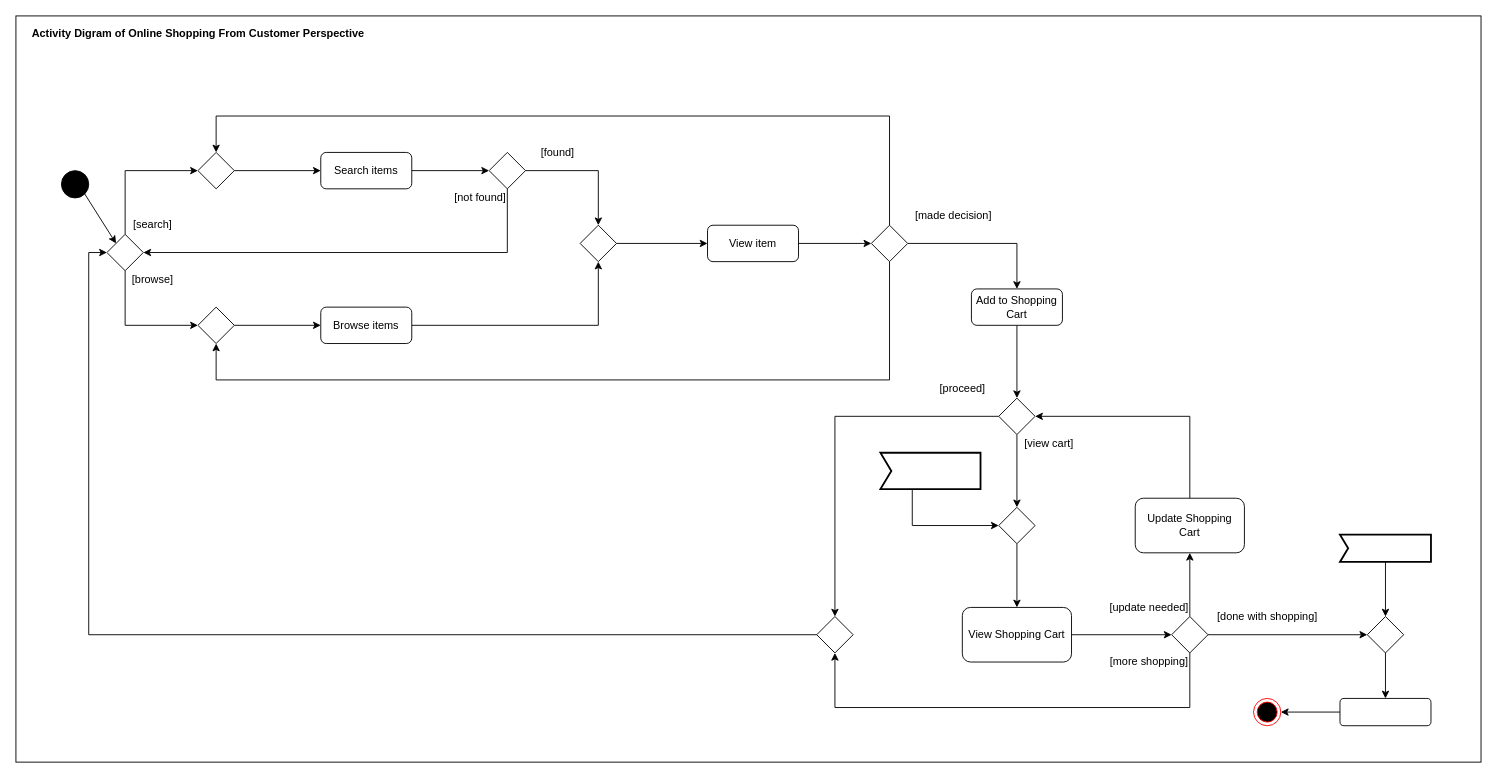
Some shapes in this 1497 by 778 pixel diagram are drawn without their labels. The shapes that lost their labels are listed below. From the top down, each one's box as (x1, y1, x2, y2) in pixels, then its label:
(879, 451, 981, 490): Checking Cart
(1339, 533, 1431, 562): Proceed to Checkout
(1339, 698, 1431, 726): Checkout
